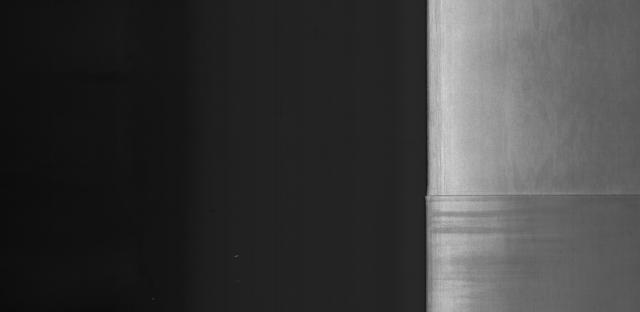welding_line: (429, 190, 639, 202)
